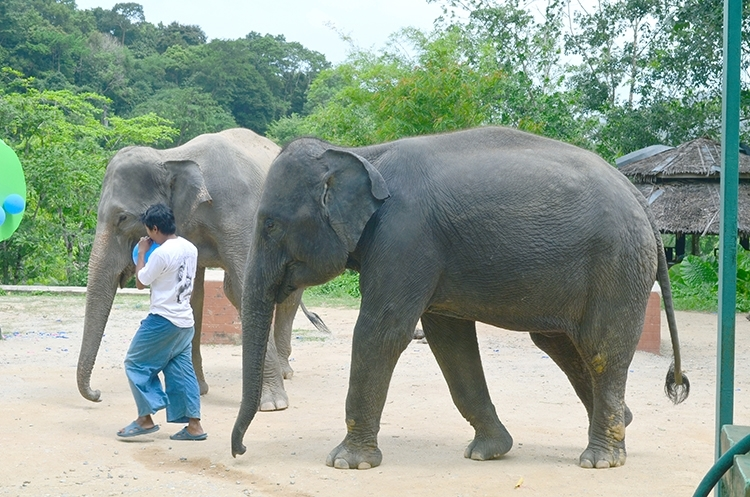Elephant: (218, 110, 691, 482)
